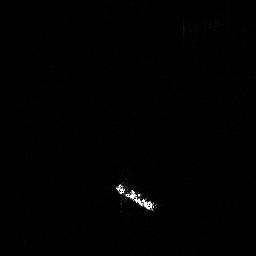ship: (111, 179, 161, 216)
